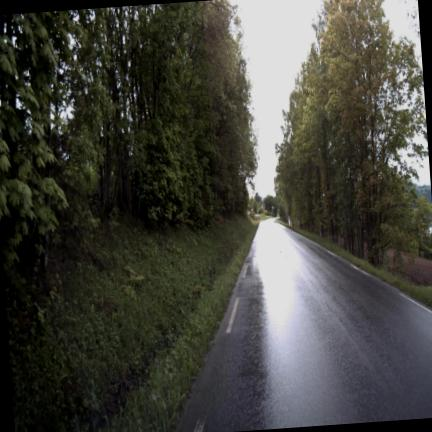Road: (175, 220, 431, 431)
